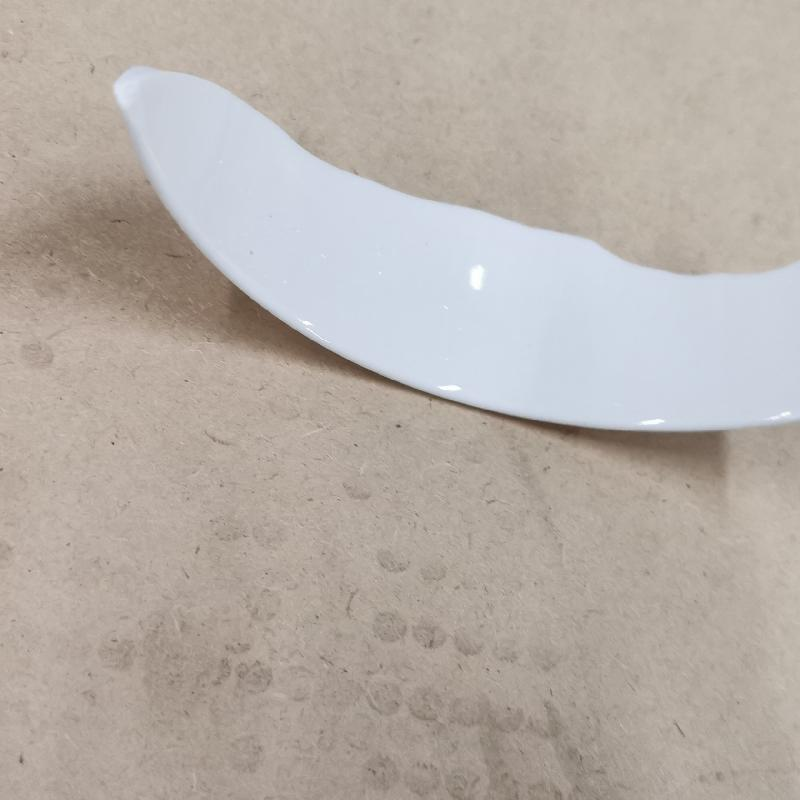ceram: (106, 55, 799, 439)
